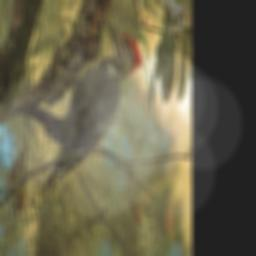Woodpecker: (41, 18, 144, 192)
